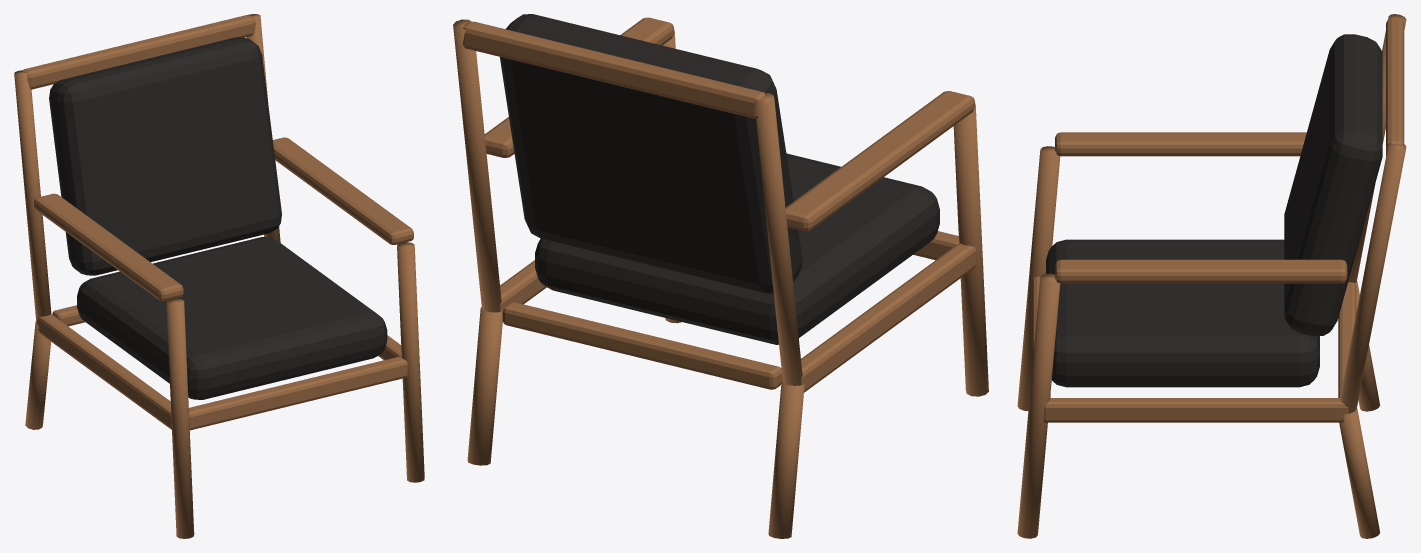
The model's file is armchairLeather.glb.
3 renders of one model, left to right at view 1: azimuth 30°, elevation 25°; view 2: azimuth 150°, elevation 25°; view 3: azimuth 270°, elevation 25°, orthographic. The views are drawn at different scales.
Visible parts, largest first — view 1: chair, seat; view 2: chair, seat; view 3: chair, seat.
Boxes of the visible parts, x1,y1,x2,y2 form: chair: (14,14,424,538); seat: (77,237,387,399); chair: (453,14,988,538); seat: (535,153,939,344); chair: (1017,14,1406,538); seat: (1046,239,1319,387).
Bounding box in the file's own units: 0.73 × 0.9487 × 0.8521.
